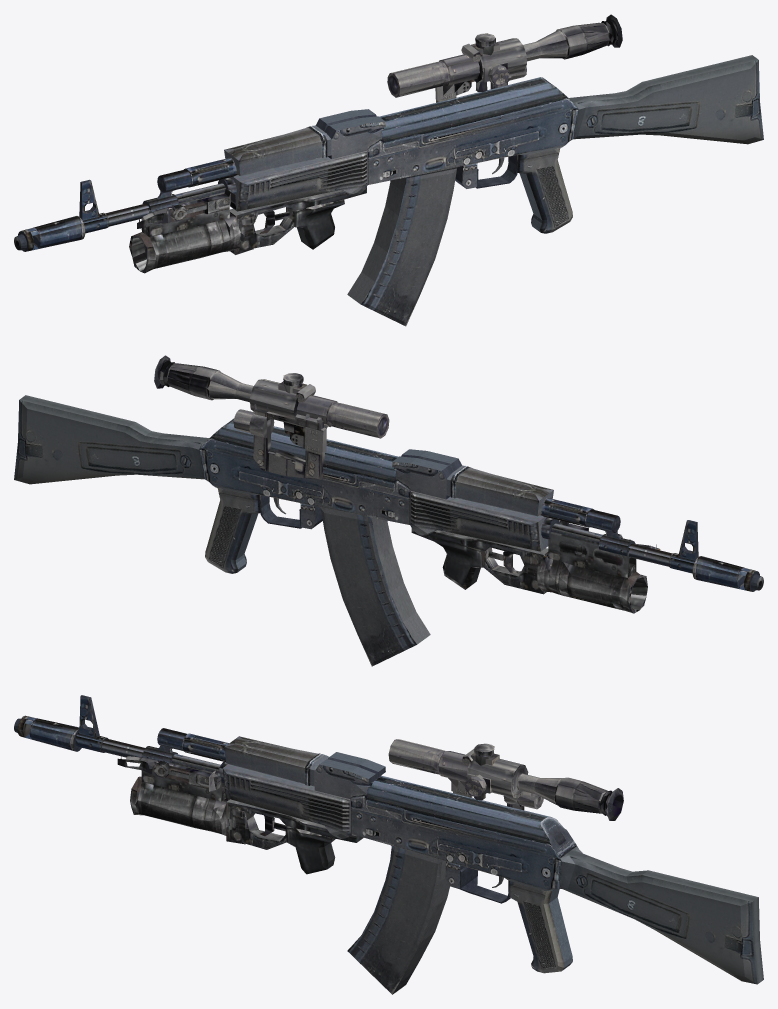
File: w_ak74m_pso_gp.obj
The picture shows the model from 3 angles, top to bottom: view 1: azimuth 30°, elevation 25°; view 2: azimuth 150°, elevation 25°; view 3: azimuth 330°, elevation 25°; orthographic projection.
Parts seen in each view (by area): view 1: Cube, W_Gp25, W_Pso1; view 2: Cube, W_Pso1, W_Gp25; view 3: Cube, W_Gp25, W_Pso1.
Part boxes in pixels (x1=…): Cube: x1=14, y1=55, x2=763, y2=326; W_Gp25: x1=129, y1=187, x2=366, y2=273; W_Pso1: x1=387, y1=14, x2=622, y2=102; Cube: x1=14, y1=395, x2=763, y2=666; W_Pso1: x1=154, y1=355, x2=389, y2=479; W_Gp25: x1=411, y1=521, x2=660, y2=613; Cube: x1=14, y1=695, x2=763, y2=994; W_Gp25: x1=117, y1=755, x2=363, y2=874; W_Pso1: x1=388, y1=739, x2=623, y2=820.
Bounding box in the file's own units: 15.02 × 5.08 × 0.9782.
